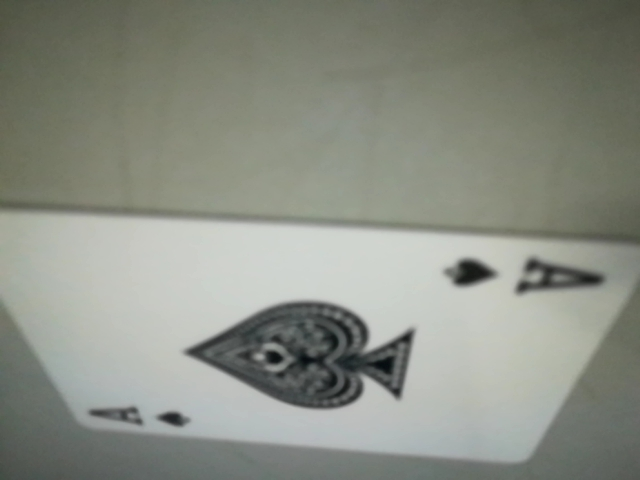ht a: (424, 242, 631, 305)
